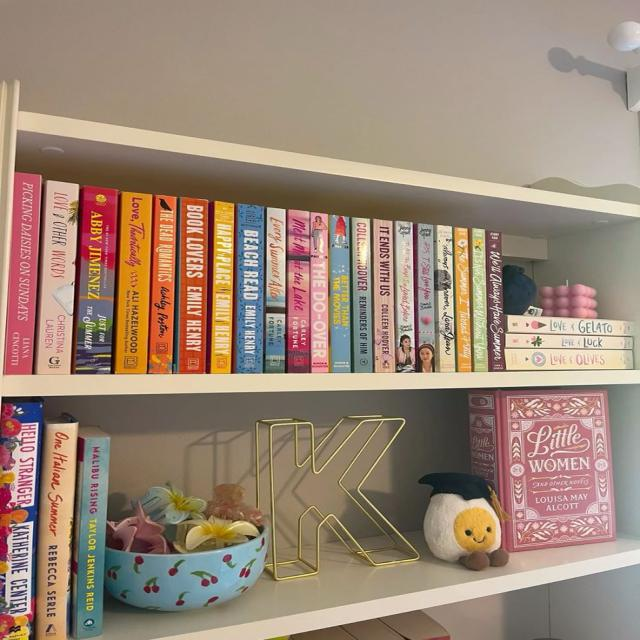book: (0, 401, 42, 639), (36, 422, 77, 639), (35, 180, 79, 374), (72, 186, 117, 374), (70, 428, 110, 639), (4, 172, 41, 374), (112, 193, 150, 374), (175, 198, 208, 373), (232, 204, 264, 373), (148, 195, 177, 373), (210, 201, 234, 373), (285, 210, 310, 373), (263, 209, 286, 373), (412, 224, 435, 373), (373, 220, 395, 373), (330, 216, 350, 373), (434, 226, 455, 372), (310, 213, 329, 373), (394, 222, 414, 372), (351, 218, 370, 373), (488, 231, 507, 371), (505, 316, 633, 336), (506, 350, 633, 370), (471, 229, 488, 371), (454, 228, 470, 371), (506, 334, 633, 349)
candle: (540, 284, 597, 317)
